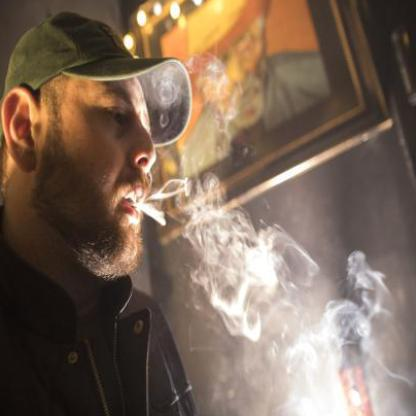person: (0, 13, 177, 415)
smoke: (171, 174, 292, 336), (324, 252, 396, 350)
